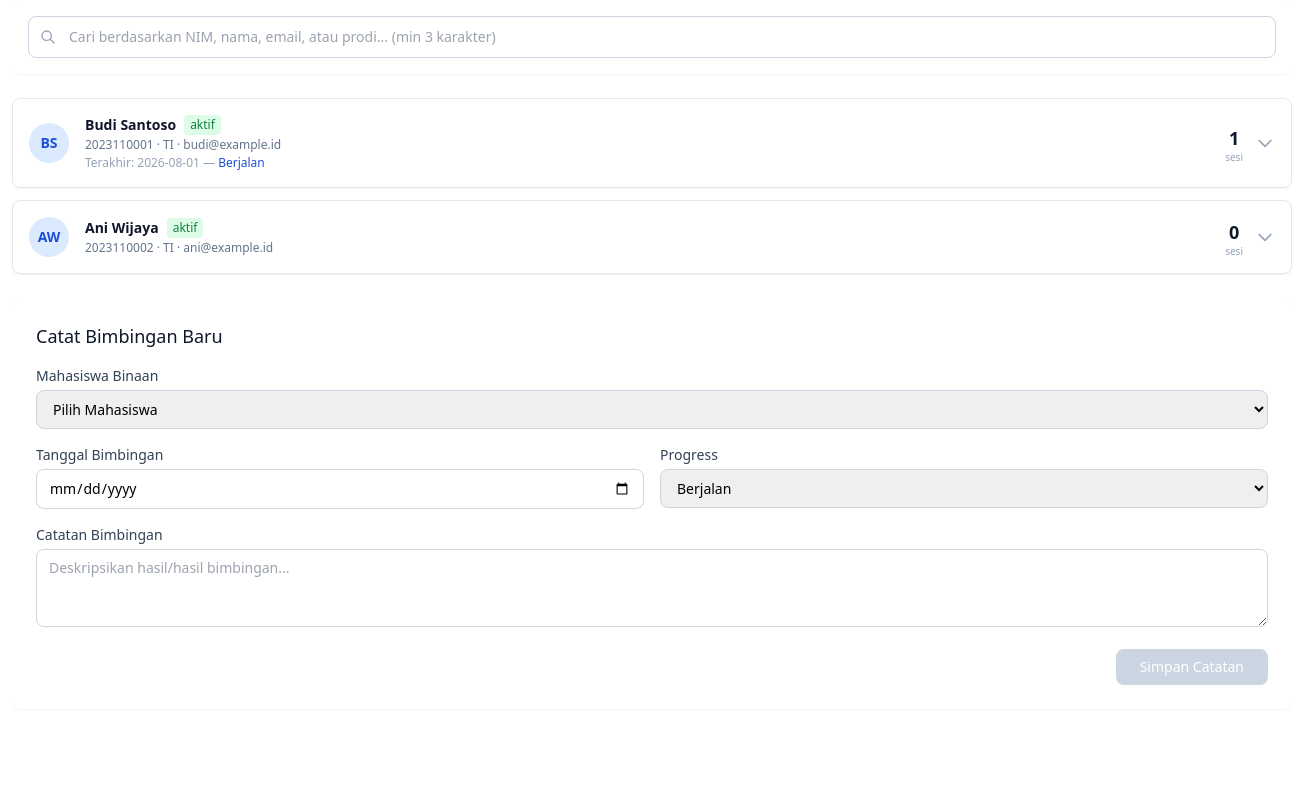
Scenario: DosenGuidance › submit — POST /guidance/sessions + success
The width and height of the screenshot is (1304, 800).
Expected: the heading "Budi Santoso" is shown, left=85, top=115, right=176, bottom=135
Select student
Select "2023110001 — Budi Santoso [TI]" in the dropdown below "Mahasiswa Binaan" at (652, 410), box left=36, top=390, right=1268, bottom=429
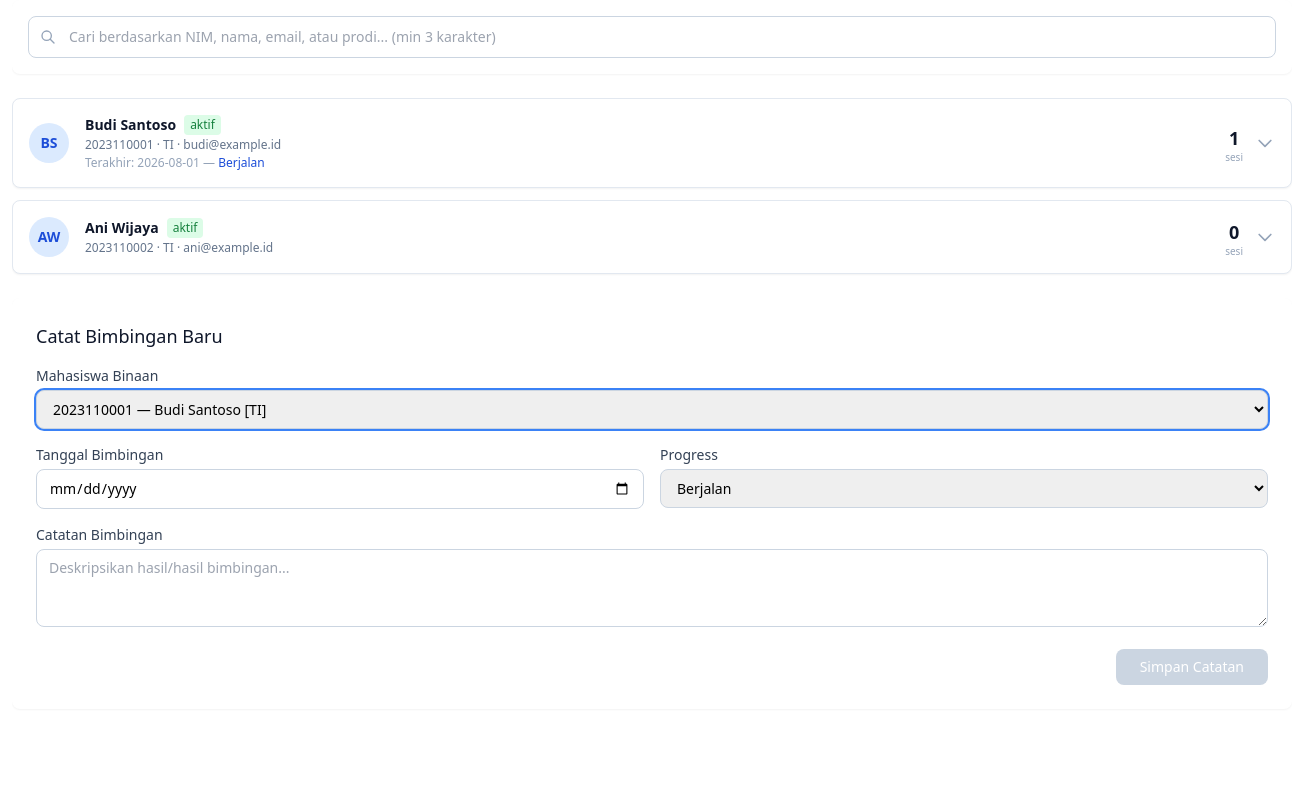
Type "2026-08-10" into the date field at (340, 489), box left=36, top=469, right=644, bottom=509
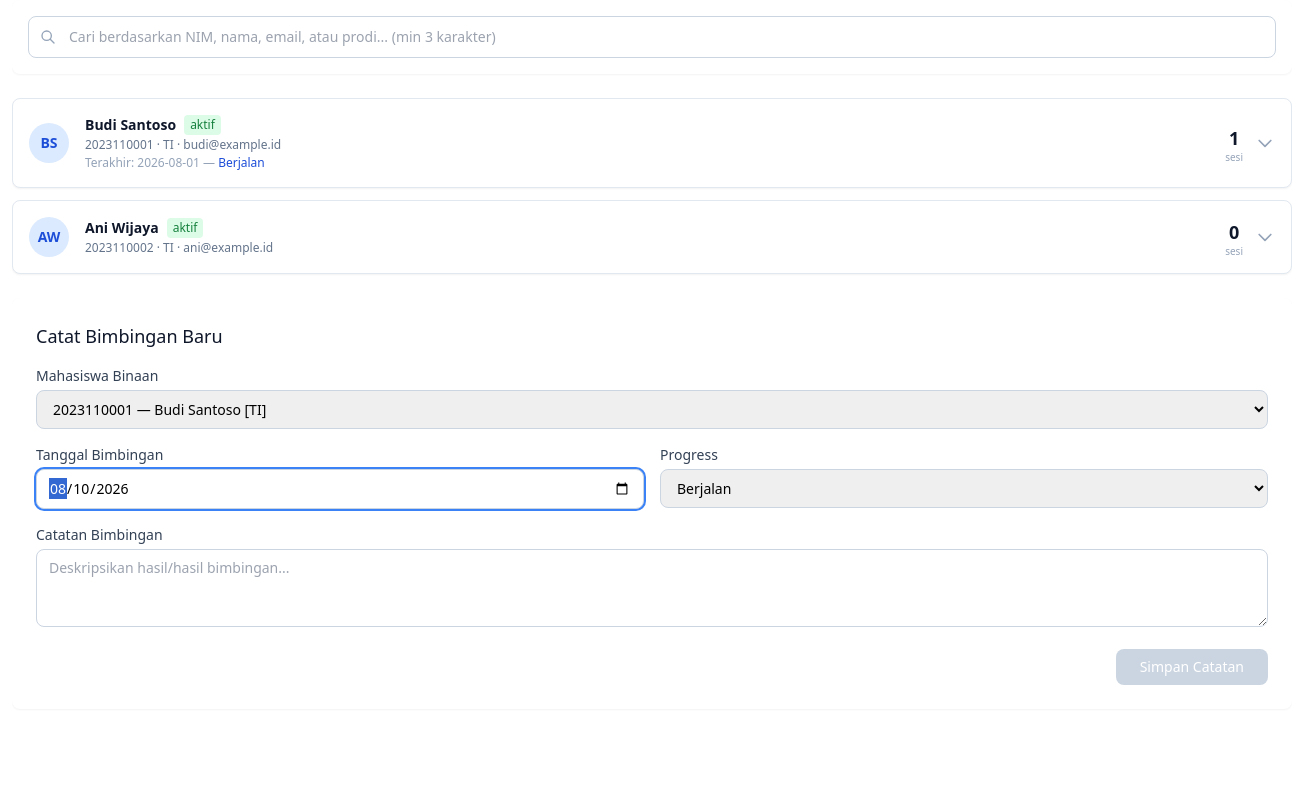
Select "Berjalan" in the dropdown below "Progress" at (964, 488), box left=660, top=469, right=1268, bottom=508
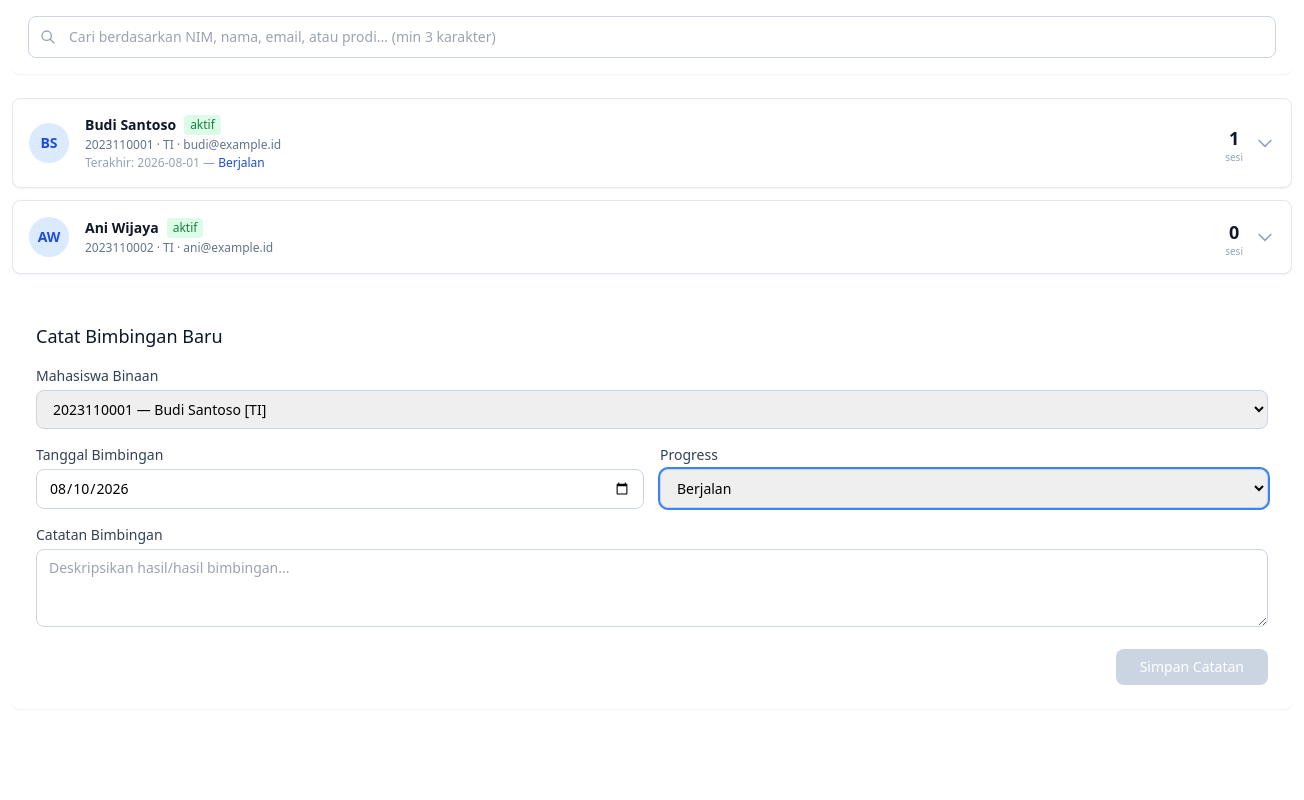
Type "Bimbingan Bab 3" into the text box with placeholder "Deskripsikan hasil/hasil bimbingan..." at (652, 588), box left=36, top=549, right=1268, bottom=627
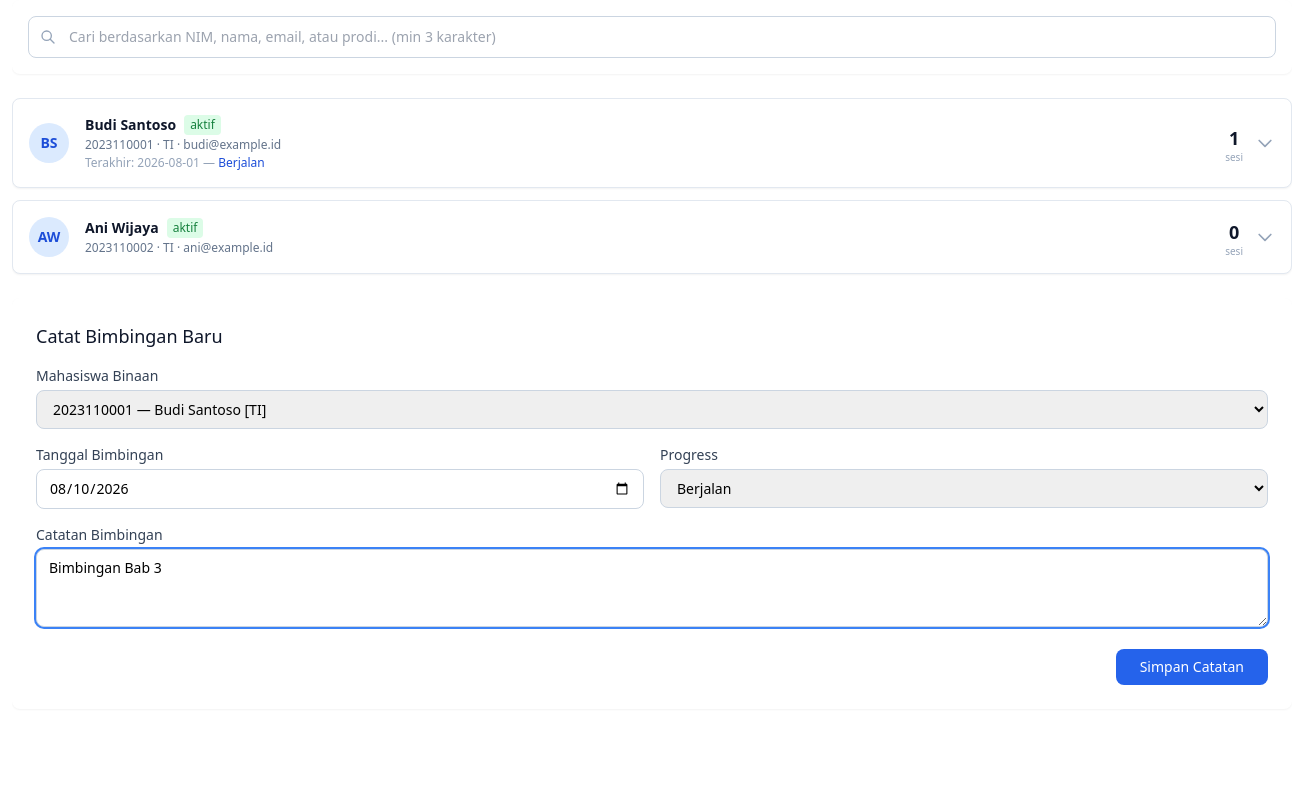
Click the button "Simpan Catatan" at (1192, 667), box left=1116, top=649, right=1268, bottom=685
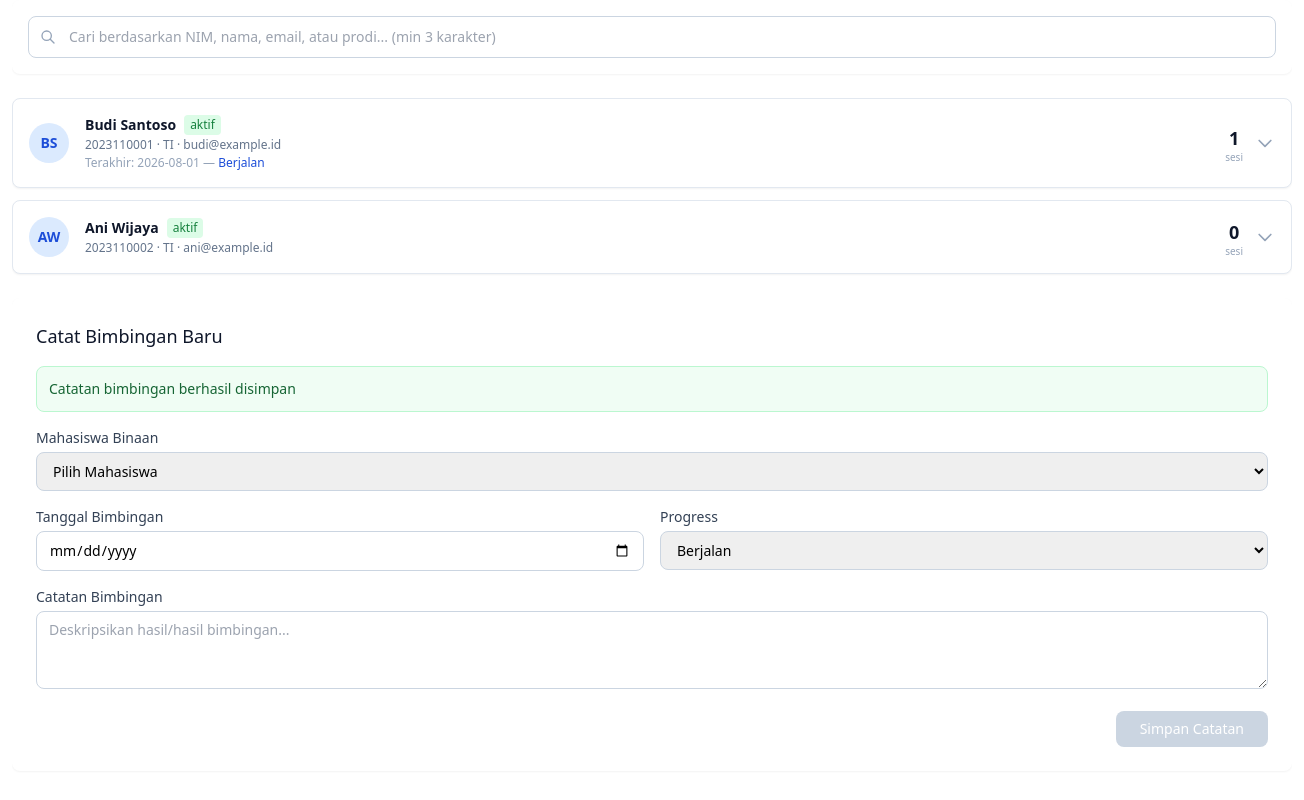
Expected: the message reads "Catatan bimbingan berhasil disimpan", left=49, top=379, right=296, bottom=398
